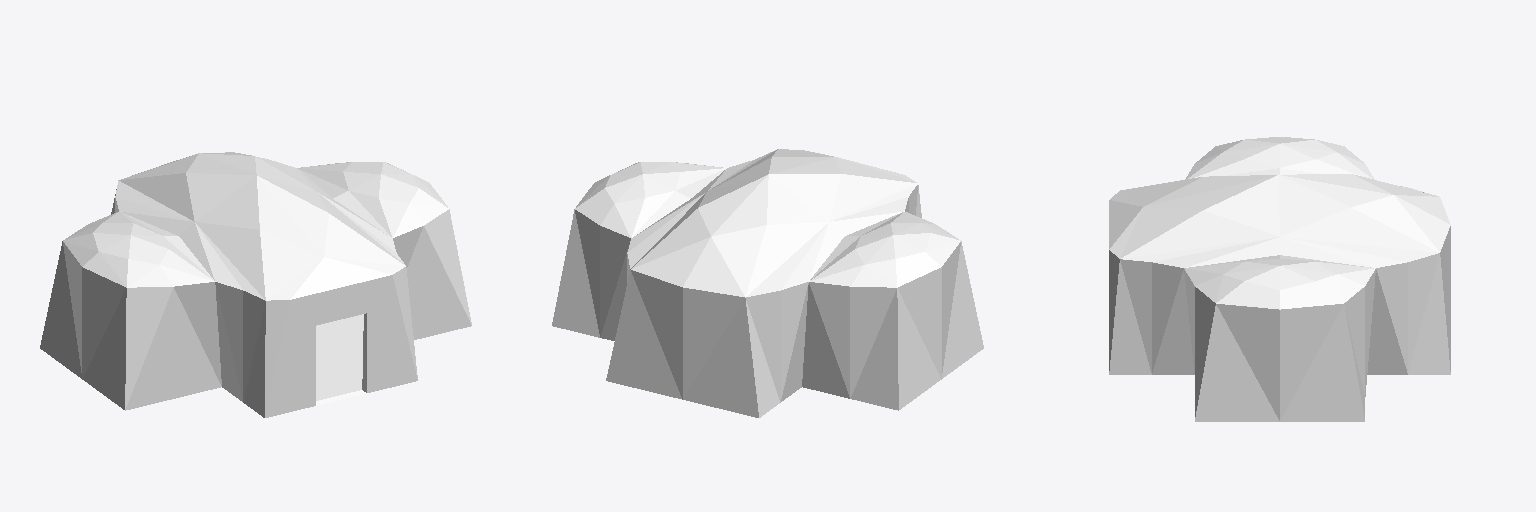
The model's file is library2_materials.obj.
The picture shows the model from 3 angles: view 1: azimuth 30°, elevation 25°; view 2: azimuth 150°, elevation 25°; view 3: azimuth 270°, elevation 25°; orthographic projection.
Parts seen in each view (by area): view 1: Cube1; view 2: Cube1; view 3: Cube1.
Boxes of the visible parts, x1,y1,x2,y2 form: Cube1: [40, 152, 471, 417]; Cube1: [552, 149, 983, 417]; Cube1: [1109, 137, 1450, 421].
Bounding box in the file's own units: 14.06 × 6.29 × 11.98.